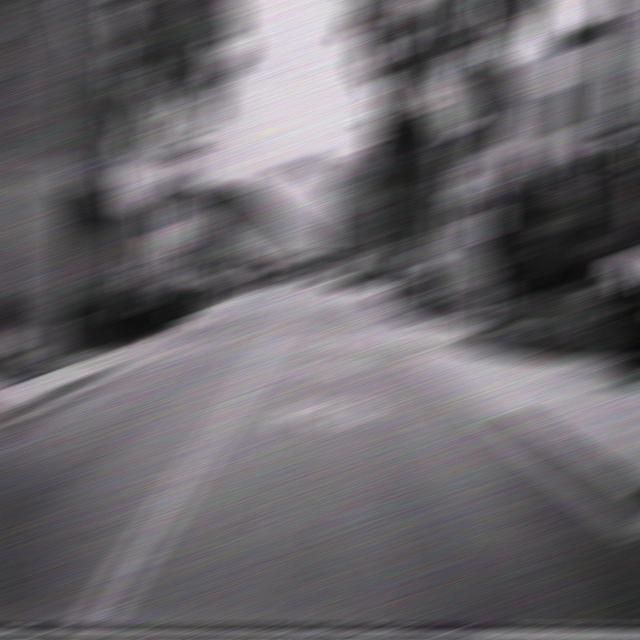pedestrianCrossing: (469, 146, 515, 205), (469, 144, 515, 203)
